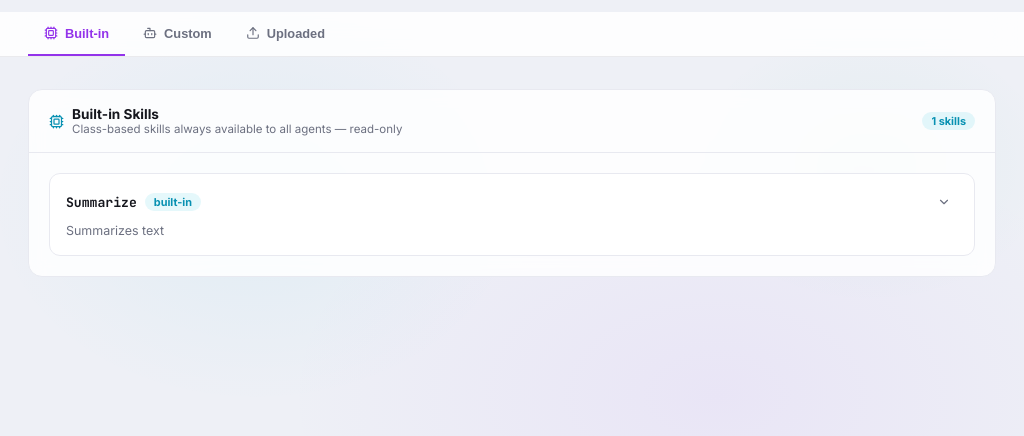
Test: Skills page › expands a built-in skill to show its instructions
Click the button titled "Toggle instructions" at (944, 202), box [930,188,958,216]
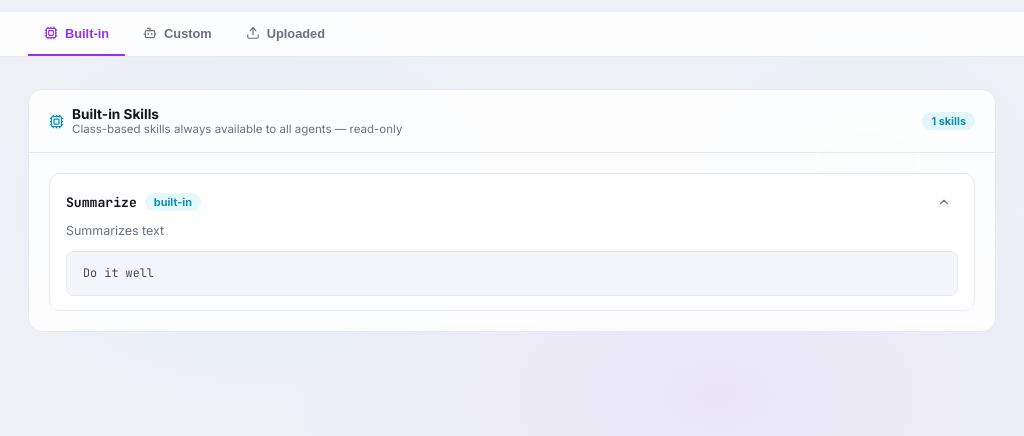
Check: the text "Do it well" is shown, box [66,251,958,296]
